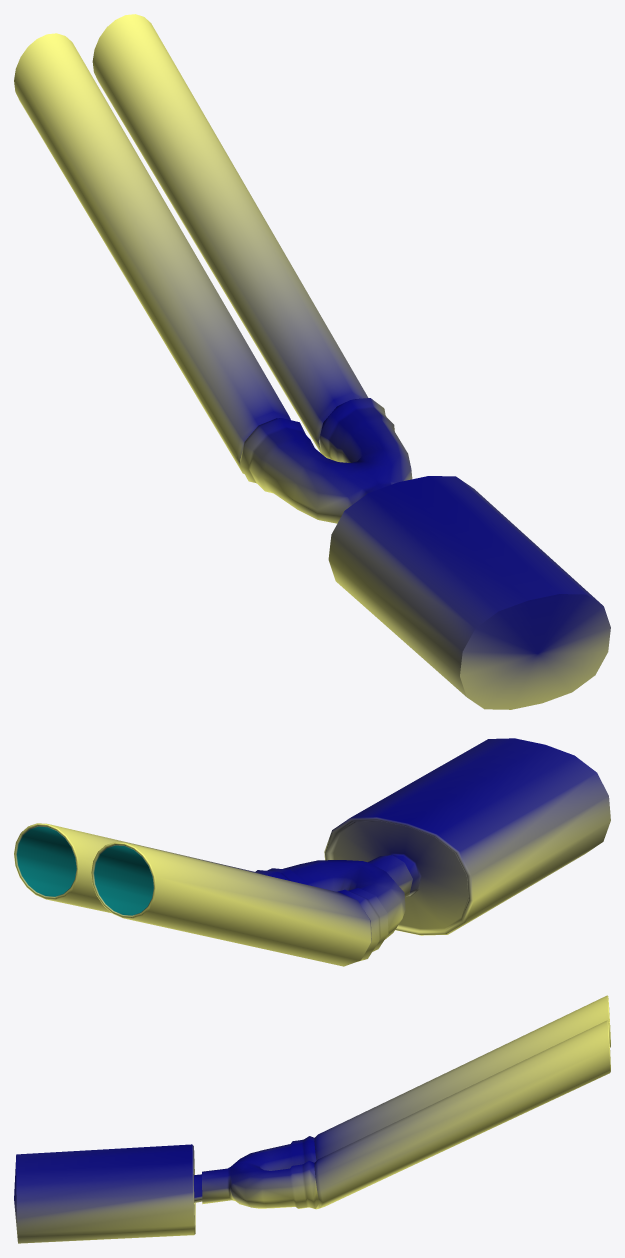
Rendered from Car_Nissan_SkylineGTRVspecR34_1999_Exhausts_SetFC.fbx.
3 renders of one model, top to bottom at view 1: azimuth 30°, elevation 25°; view 2: azimuth 150°, elevation 25°; view 3: azimuth 270°, elevation 25°, orthographic. The views are drawn at different scales.
Parts seen in each view (by area): view 1: Exhausts 6; view 2: Exhausts 6; view 3: Exhausts 6.
Boxes of the visible parts, left/top/right/bottom form: Exhausts 6: left=14, top=14, right=610, bottom=709; Exhausts 6: left=14, top=738, right=610, bottom=966; Exhausts 6: left=14, top=995, right=610, bottom=1243.
Bounding box in the file's own units: 0.1576 × 0.3342 × 0.8004.
